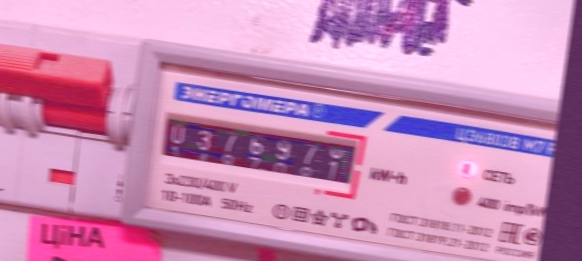0: (167, 122, 185, 146)
1: (325, 160, 337, 183)
3: (195, 129, 211, 152)
6: (247, 132, 265, 157)
7: (221, 130, 238, 155), (300, 141, 317, 166)
9: (273, 138, 290, 162)
screen: (147, 103, 369, 204)
